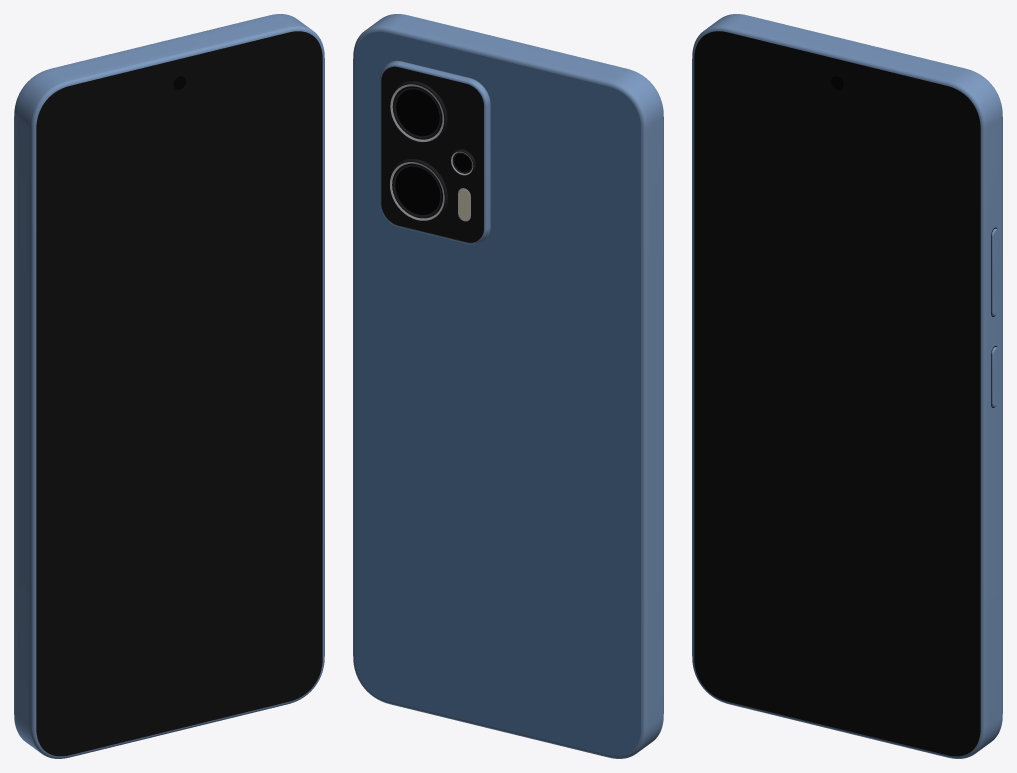
Rendered from poco-x4-gt.glb.
3 views of the same model, side by side, from view 1: azimuth 30°, elevation 25°; view 2: azimuth 150°, elevation 25°; view 3: azimuth 330°, elevation 25° (orthographic).
Visible parts, largest first — view 1: body; view 2: body, camera; view 3: body, buttons.
Boxes of the visible parts, x1,y1,x2,y2 form: body: (14,14,324,758); body: (353,14,663,758); camera: (380,60,490,244); body: (692,14,1002,758); buttons: (991,227,998,407).
Bounding box in the file's own units: 74.72 × 164 × 10.97.
